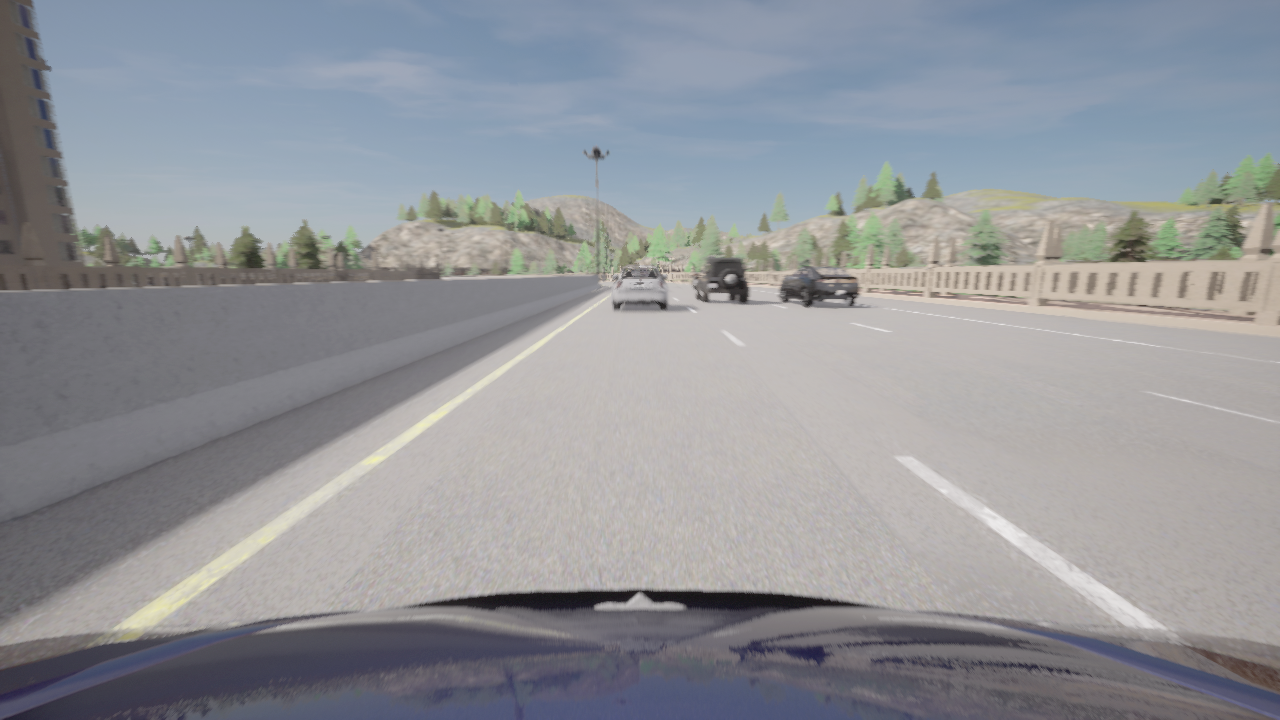cyclist: (0, 588, 1279, 719), (779, 266, 859, 306), (612, 266, 667, 310), (695, 257, 748, 302), (689, 274, 700, 290)
